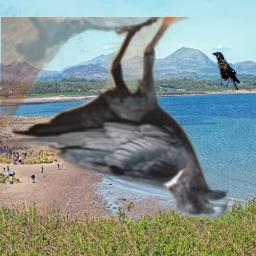Crow: (1, 17, 229, 222), (211, 51, 240, 90)
